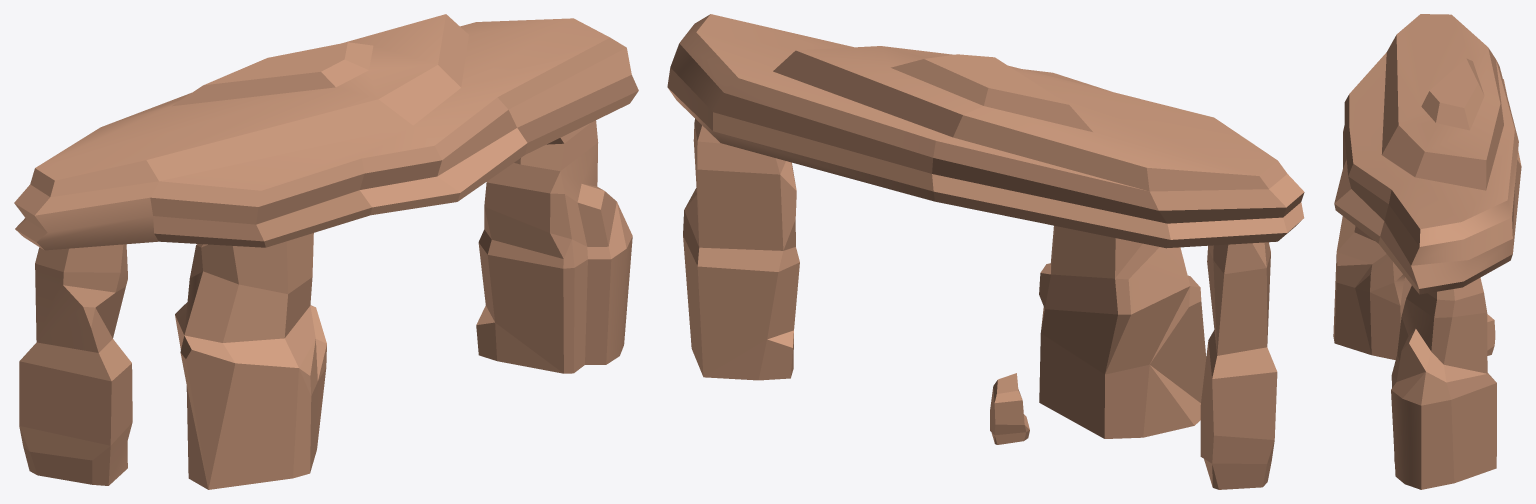
Rendered from BO_RockGate_13x7x4.fbx.
3 views of the same model, side by side, from view 1: azimuth 30°, elevation 25°; view 2: azimuth 150°, elevation 25°; view 3: azimuth 270°, elevation 25° (orthographic). The views are drawn at different scales.
Visible parts, largest first — view 1: BO_RockGate_01; view 2: BO_RockGate_01; view 3: BO_RockGate_01.
Part boxes in pixels (x1,y1,x2,y2): BO_RockGate_01: (14, 14, 638, 489); BO_RockGate_01: (667, 14, 1304, 489); BO_RockGate_01: (1333, 14, 1521, 489).
Size of the model in its own units: 1300 by 707 by 426.
